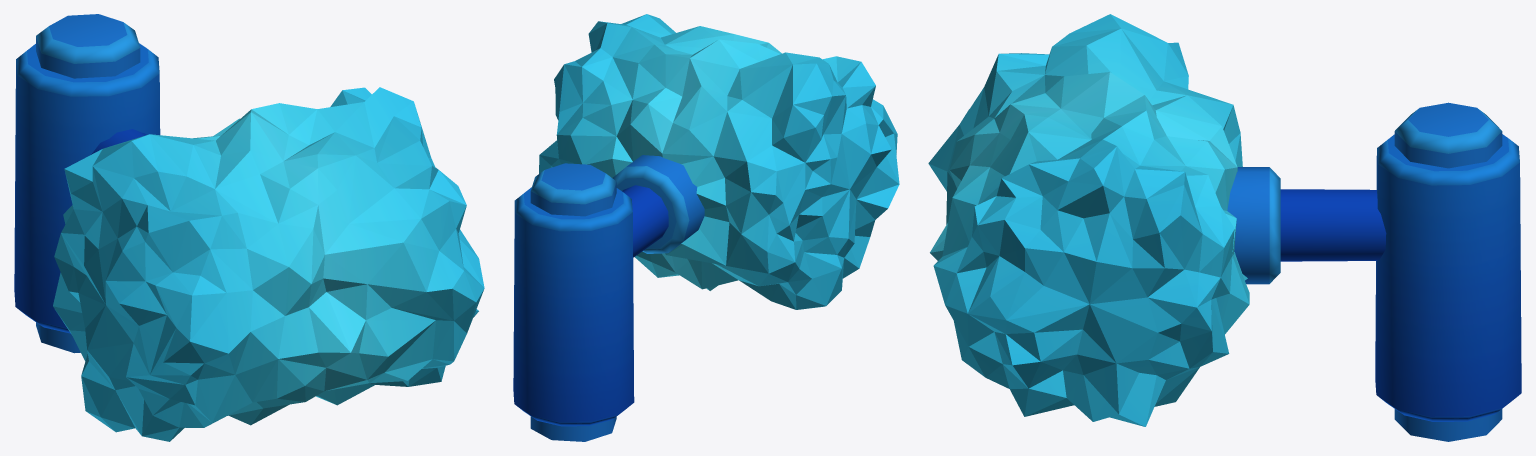
The model's file is obstacle_12_001.fbx.
3 views of the same model, side by side, from view 1: azimuth 30°, elevation 25°; view 2: azimuth 150°, elevation 25°; view 3: azimuth 270°, elevation 25° (orthographic). The views are drawn at different scales.
Parts seen in each view (by area): view 1: obstacle_12_001; view 2: obstacle_12_001; view 3: obstacle_12_001.
Boxes of the visible parts, box(x1,y1,x2,y2) form: obstacle_12_001: box(14, 14, 484, 441); obstacle_12_001: box(513, 14, 899, 441); obstacle_12_001: box(928, 14, 1521, 441).
Size of the model in its own units: 194 by 285 by 182.
